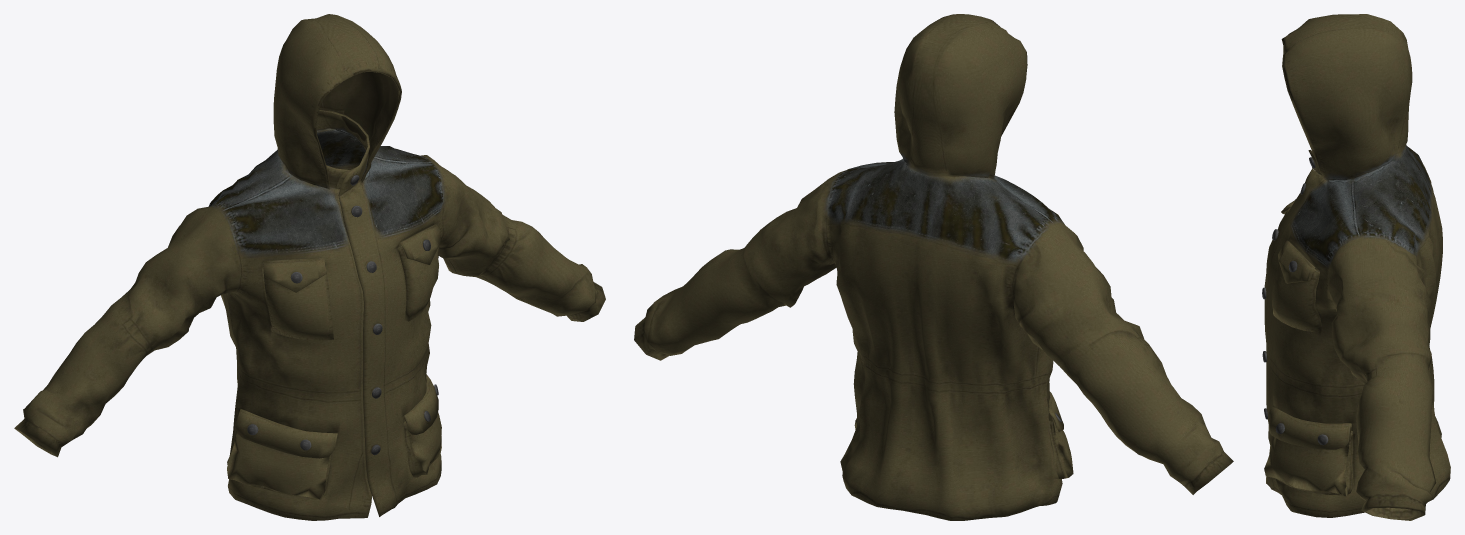
File: clothing_jacket_mixamo.glb
3 renders of one model, left to right at view 1: azimuth 30°, elevation 25°; view 2: azimuth 150°, elevation 25°; view 3: azimuth 270°, elevation 25°, orthographic.
Parts seen in each view (by area): view 1: defaultMaterial; view 2: defaultMaterial; view 3: defaultMaterial.
Boxes of the visible parts, x1,y1,x2,y2 form: defaultMaterial: [14, 14, 605, 520]; defaultMaterial: [634, 14, 1233, 520]; defaultMaterial: [1262, 14, 1450, 520].
Bounding box in the file's own units: 122 × 93.46 × 34.49.
1 material, 1 textured.
